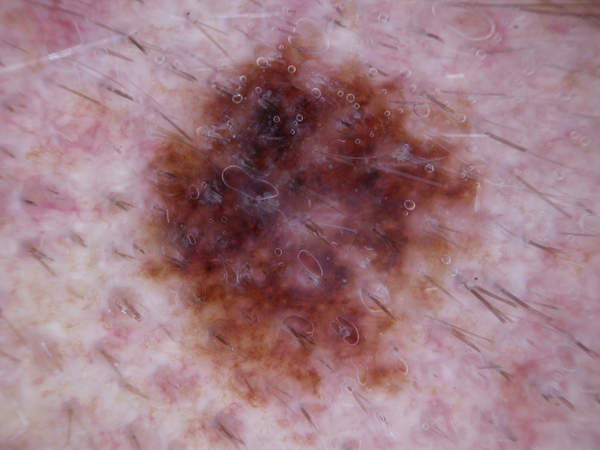Detected Lesion: (133, 42, 491, 401)
